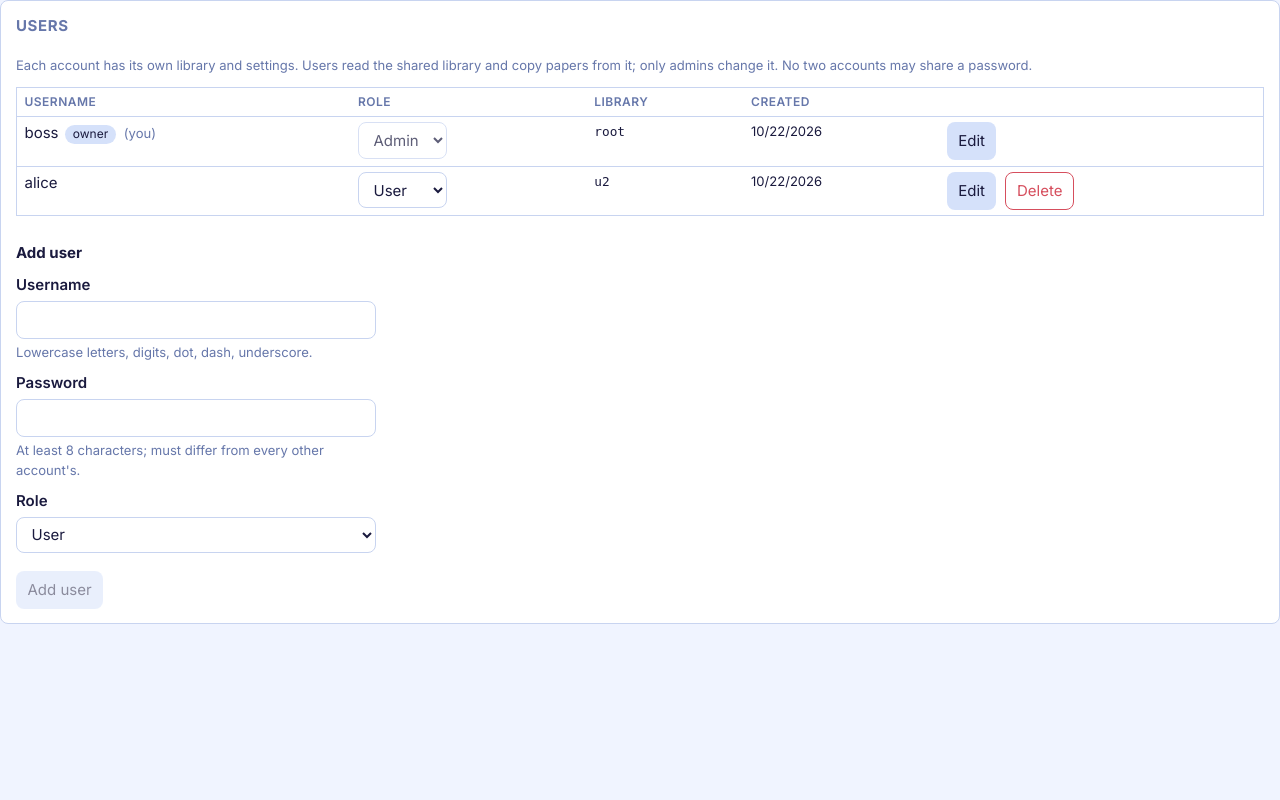
Test case: UsersPanel › deletes after confirming and reports the kept library
This screenshot has width=1280, height=800.
Step 1. Click the button "Delete" → (1040, 191), box top-left (1005, 172), bottom-right (1074, 210)
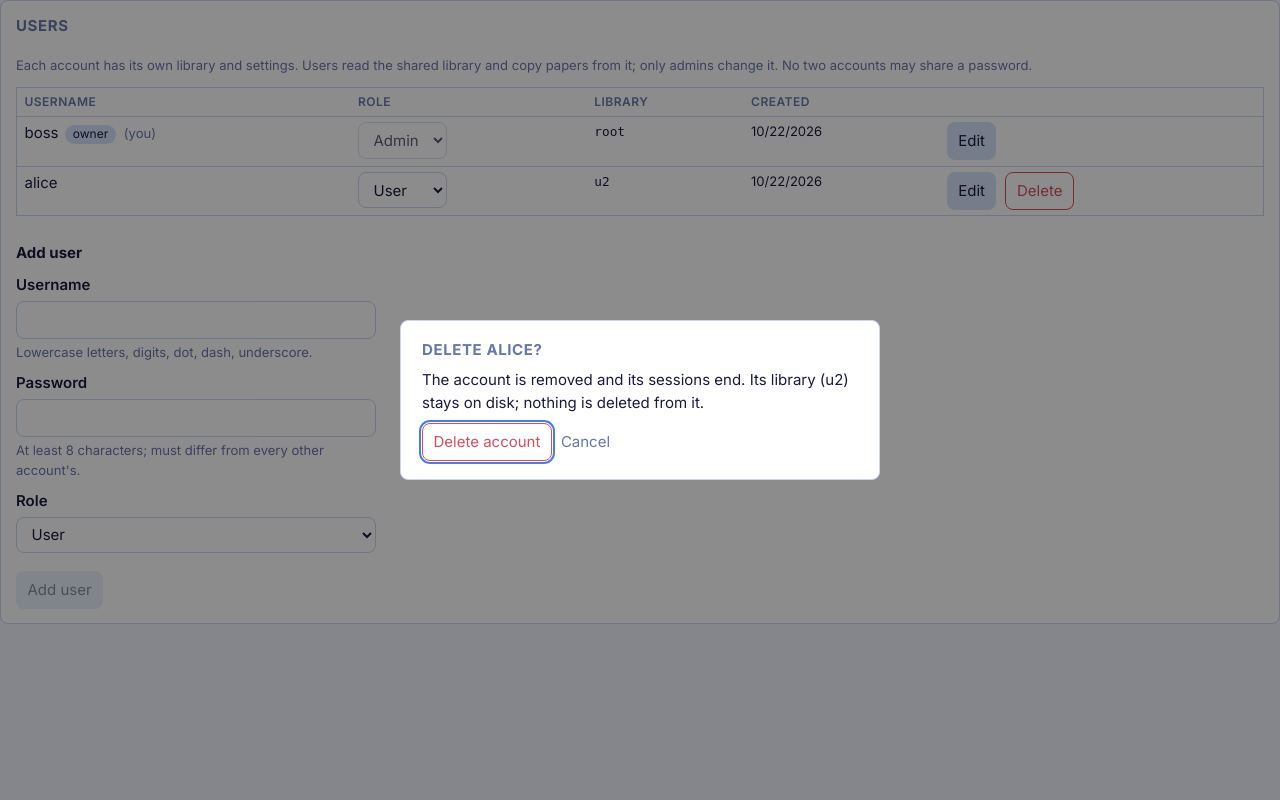
Step 2. Click the button "Delete account" → (487, 442), box top-left (422, 423), bottom-right (552, 461)
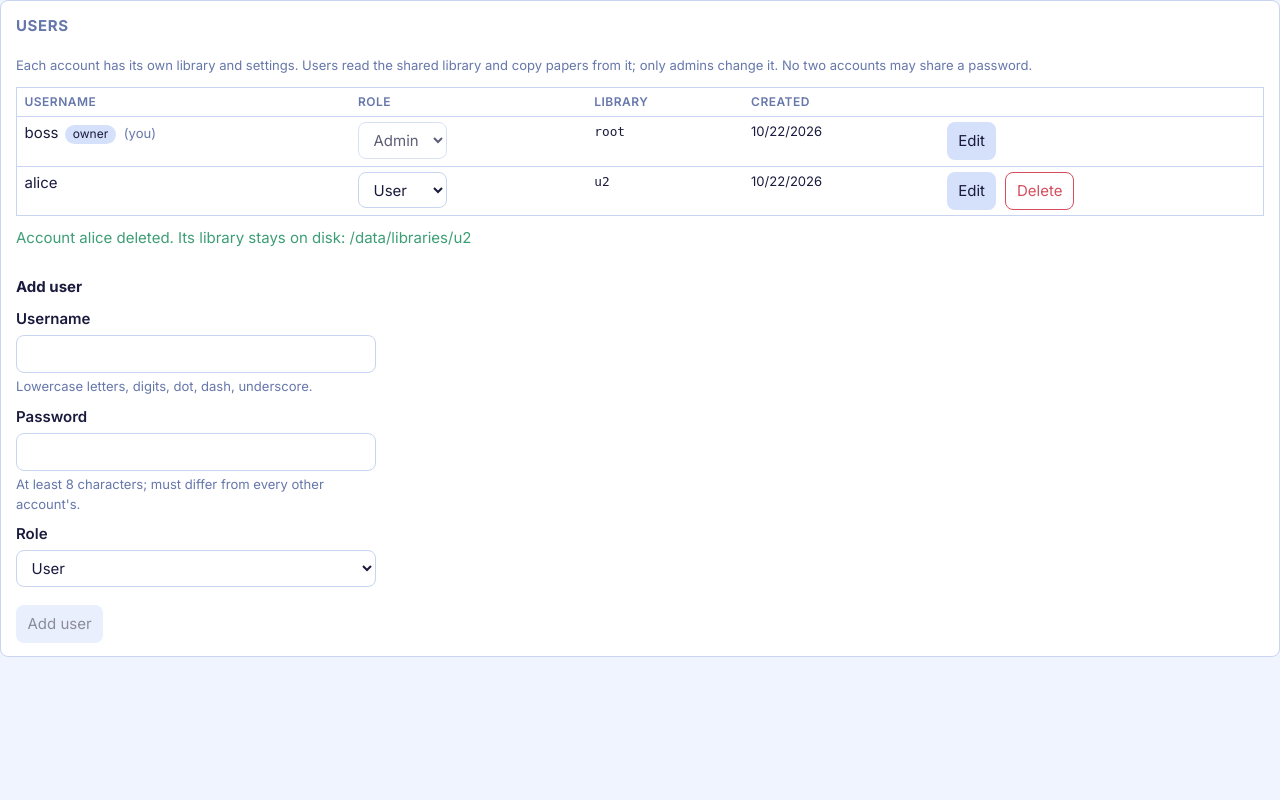
Now the text "stays on disk: /data/libraries/u2" is shown, box top-left (16, 228), bottom-right (471, 247)
